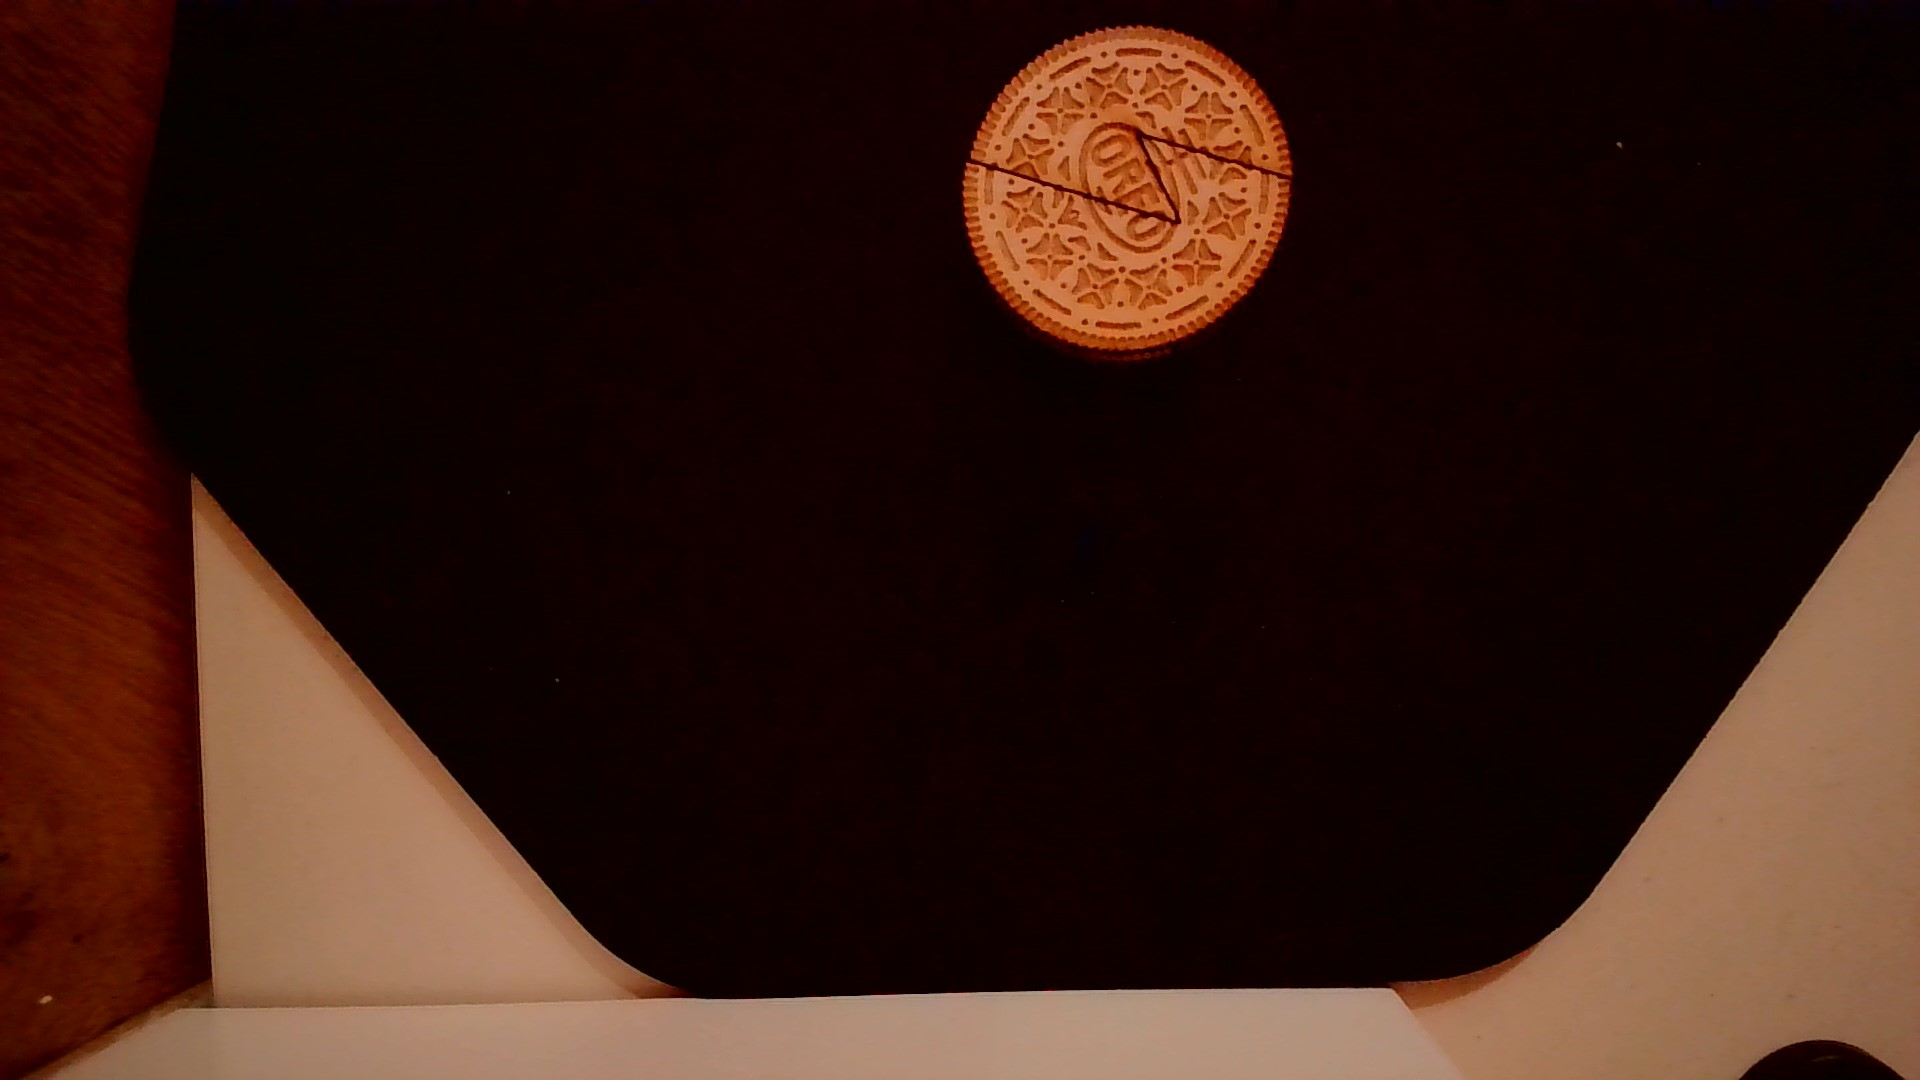Fissure: (952, 112, 1296, 229)
Oréo: (956, 22, 1298, 364)
